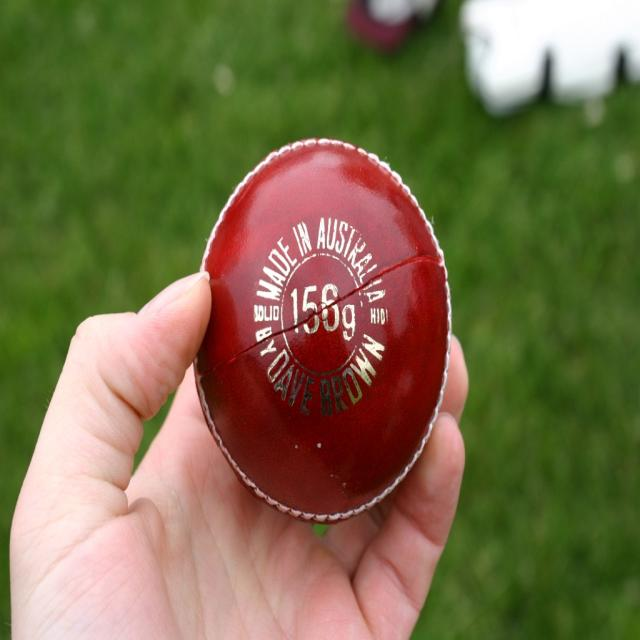ball: (188, 128, 458, 535)
